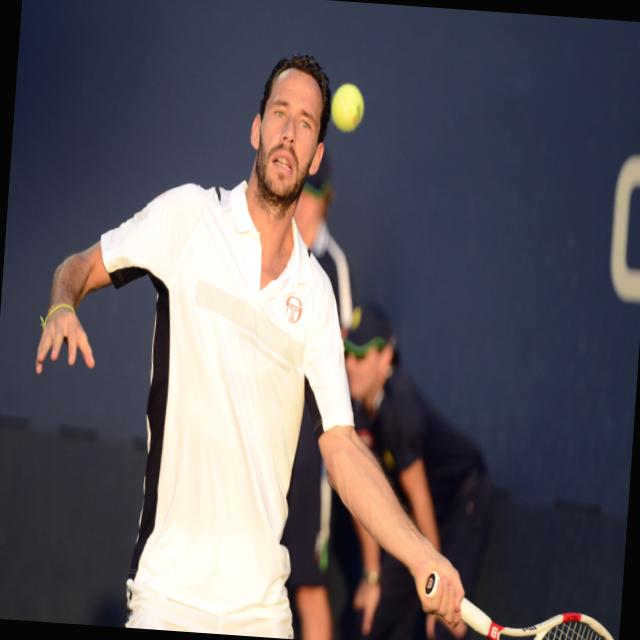Tennis Ball: (329, 78, 363, 132)
